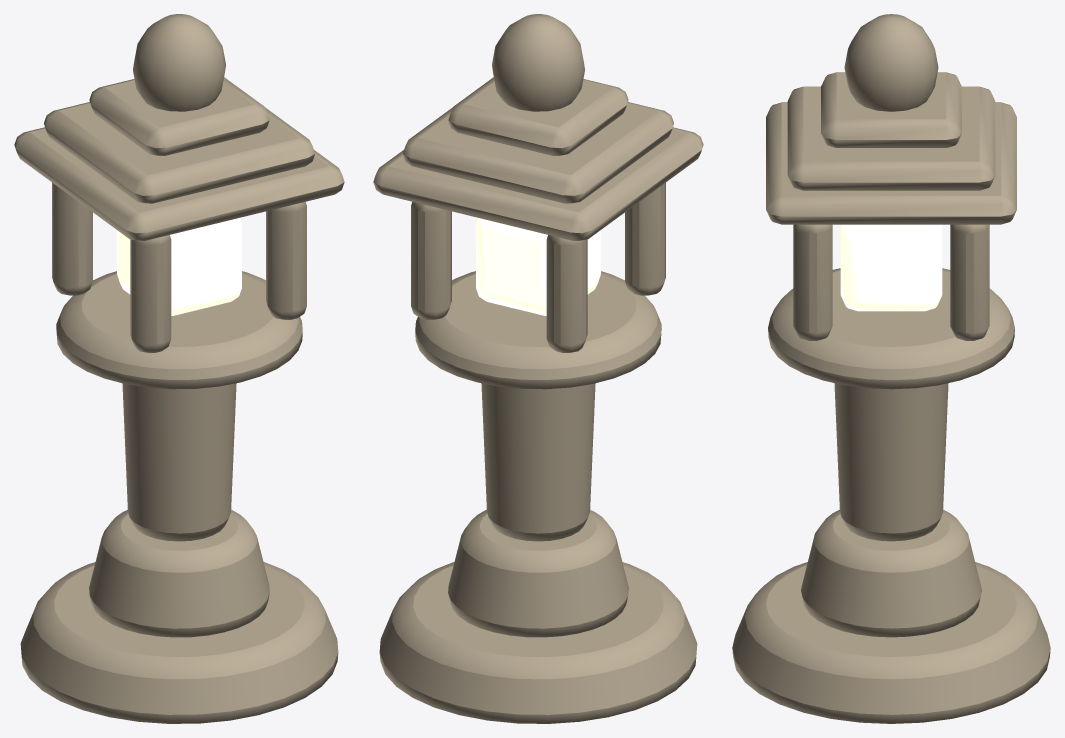
The model's file is stone_lantern.glb.
3 views of the same model, side by side, from view 1: azimuth 30°, elevation 25°; view 2: azimuth 150°, elevation 25°; view 3: azimuth 270°, elevation 25° (orthographic).
Parts seen in each view (by area): view 1: Detail.stone_lantern.Stone, Detail.stone_lantern.Light; view 2: Detail.stone_lantern.Stone, Detail.stone_lantern.Light; view 3: Detail.stone_lantern.Stone, Detail.stone_lantern.Light.
Boxes of the visible parts, bbox=[...] form: Detail.stone_lantern.Stone: bbox=[14, 14, 344, 723]; Detail.stone_lantern.Light: bbox=[117, 218, 241, 315]; Detail.stone_lantern.Stone: bbox=[373, 14, 703, 723]; Detail.stone_lantern.Light: bbox=[476, 218, 600, 315]; Detail.stone_lantern.Stone: bbox=[732, 14, 1050, 723]; Detail.stone_lantern.Light: bbox=[840, 224, 942, 311].
Bounding box in the file's own units: 0.8119 × 1.81 × 0.8119.
